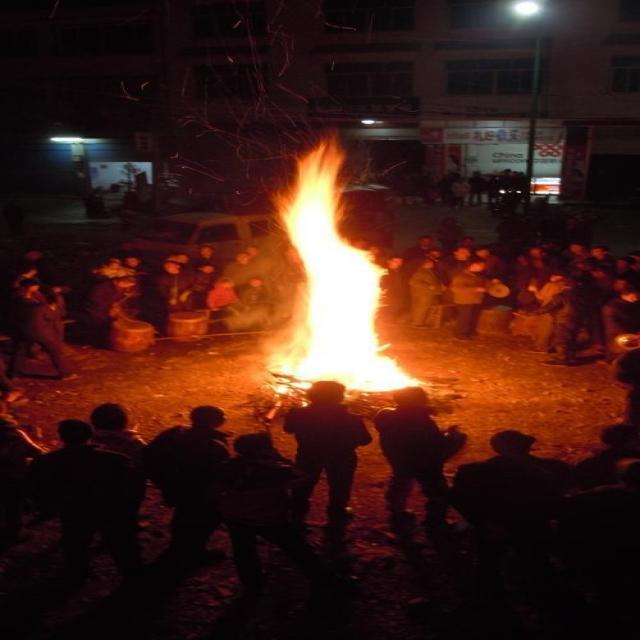Fire: (256, 128, 428, 407)
